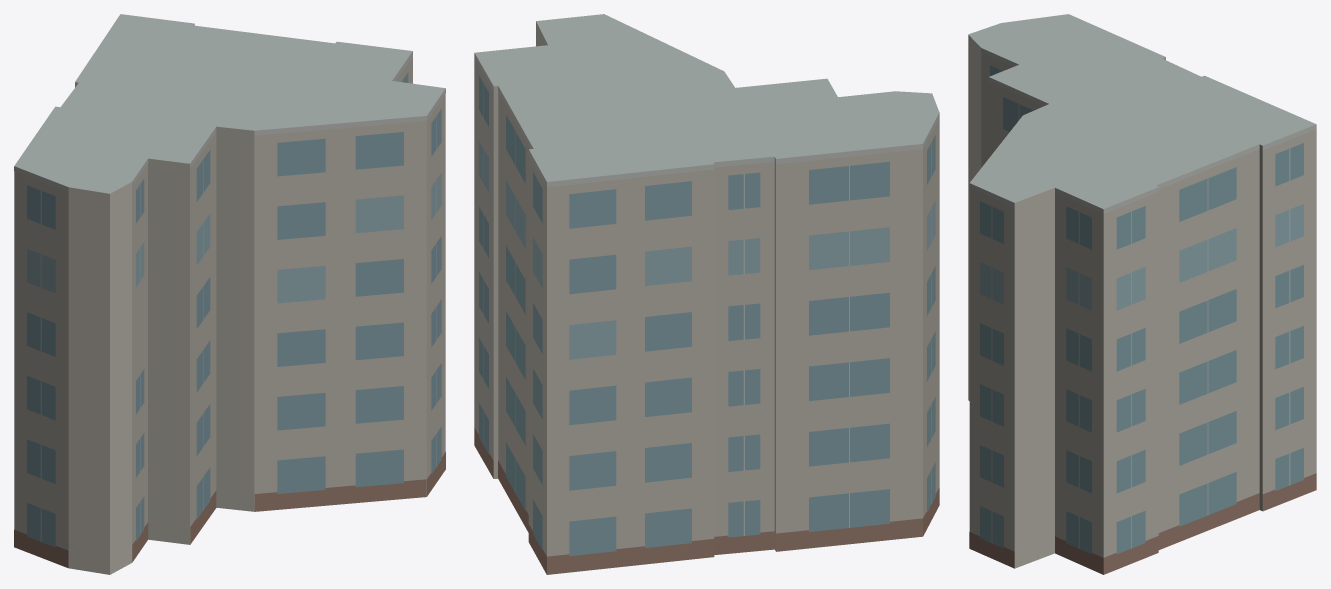
The model's file is survey-upis-32753612.glb.
3 renders of one model, left to right at view 1: azimuth 30°, elevation 25°; view 2: azimuth 150°, elevation 25°; view 3: azimuth 270°, elevation 25°, orthographic. The views are drawn at different scales.
Parts seen in each view (by area): view 1: survey-upis-32753612.tmp; view 2: survey-upis-32753612.tmp; view 3: survey-upis-32753612.tmp.
Boxes of the visible parts, <box> form: survey-upis-32753612.tmp: <box>14,14,445,574</box>; survey-upis-32753612.tmp: <box>474,14,939,574</box>; survey-upis-32753612.tmp: <box>968,14,1316,574</box>.
Size of the model in its own units: 20.96 by 18.3 by 15.81.
